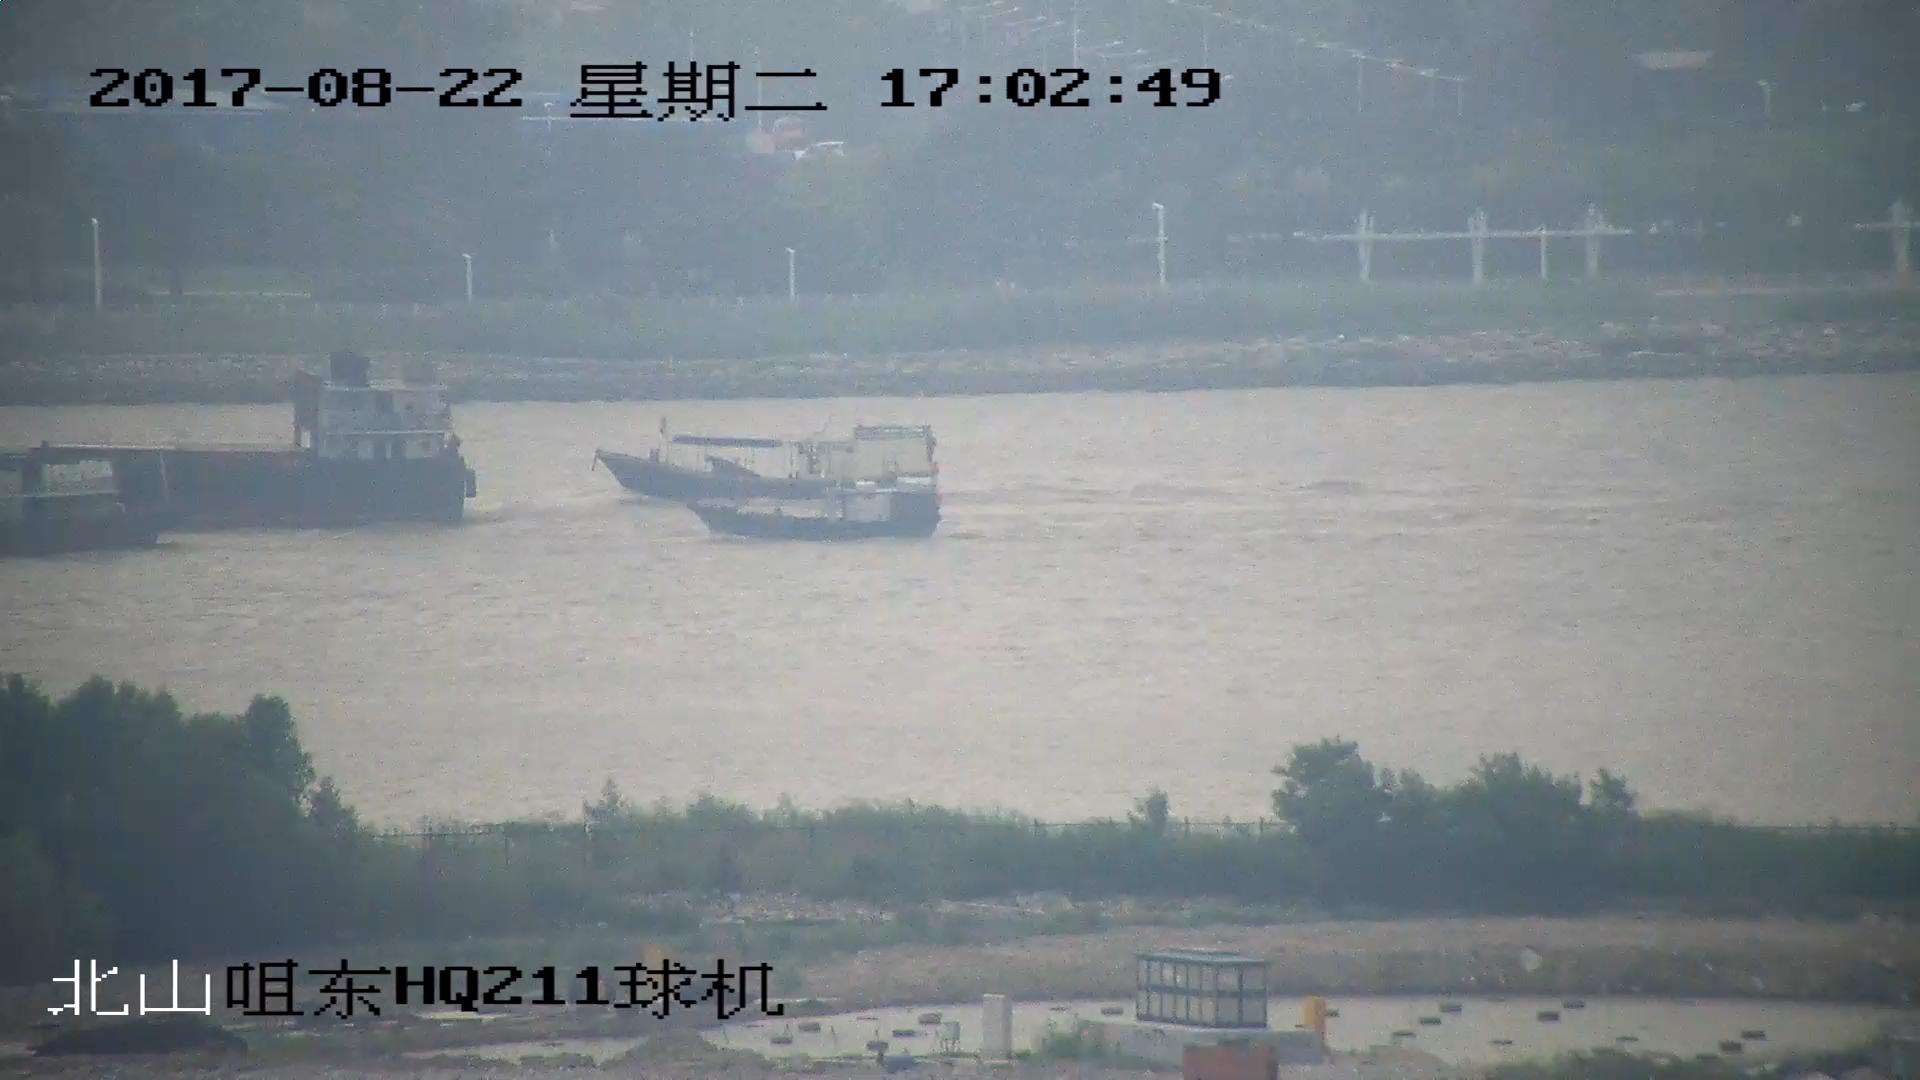fishing boat: (595, 420, 940, 505), (691, 473, 938, 544)
general cargo ship: (1, 380, 459, 533)
